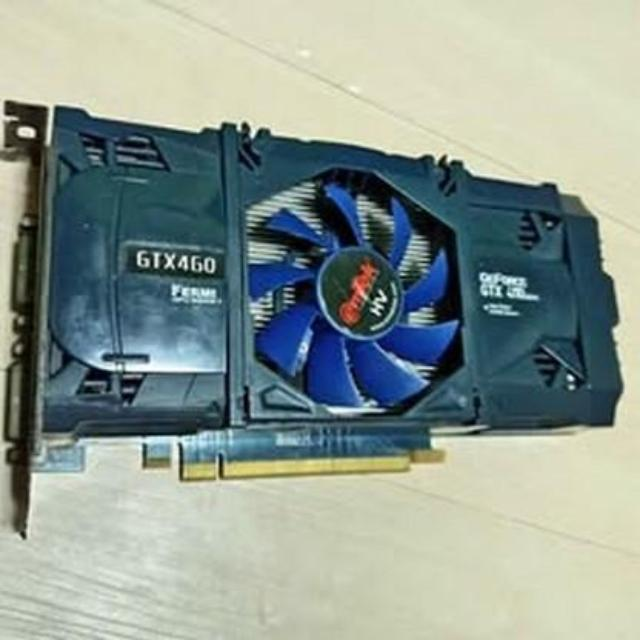GPU: (9, 91, 624, 472)
